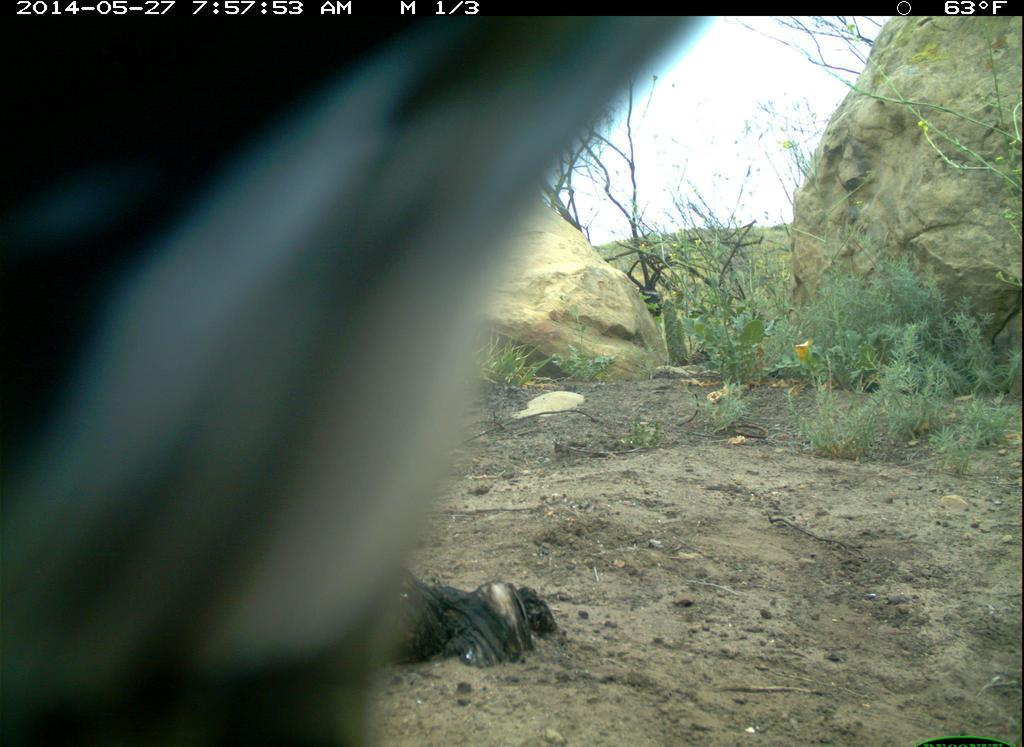deer: (4, 17, 721, 747)
